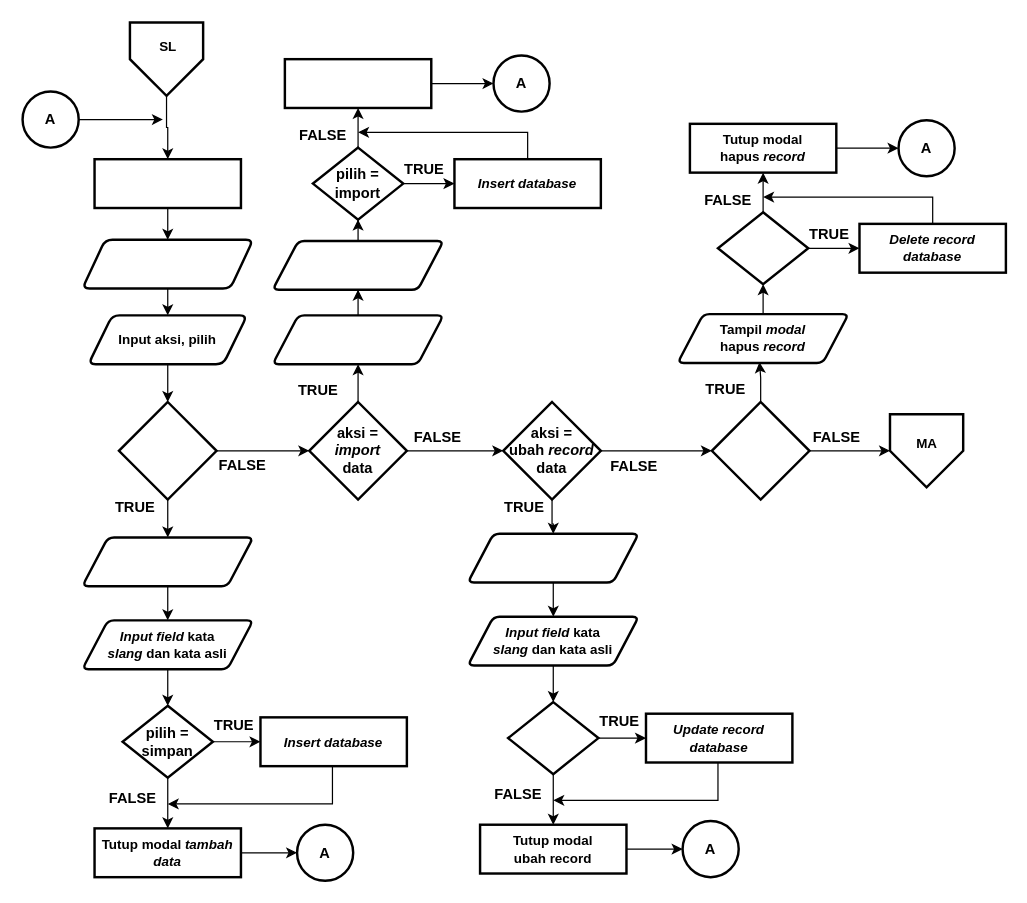
The diagram is 1027 pixels wide and 903 high, and some of its shapes have lost their labels. The shapes that lost their labels are listed below. From the top down, each one's centre as x and y in pixels, then its label:
At pixel 357 83: "Tutup modal import data".
At pixel 167 183: "Select data slangword dari database".
At pixel 167 263: "Tampilkan halaman kamus slangword".
At pixel 357 264: "Input field file".
At pixel 762 247: "pilih = hapus".
At pixel 357 339: "Tampil modal import data".
At pixel 167 450: "aksi = tambah data".
At pixel 760 450: "aksi = hapus record data".
At pixel 167 561: "Tampil modal tambah data".
At pixel 552 557: "Tampil modal ubah record, value input field".
At pixel 552 737: "pilih = ubah".
